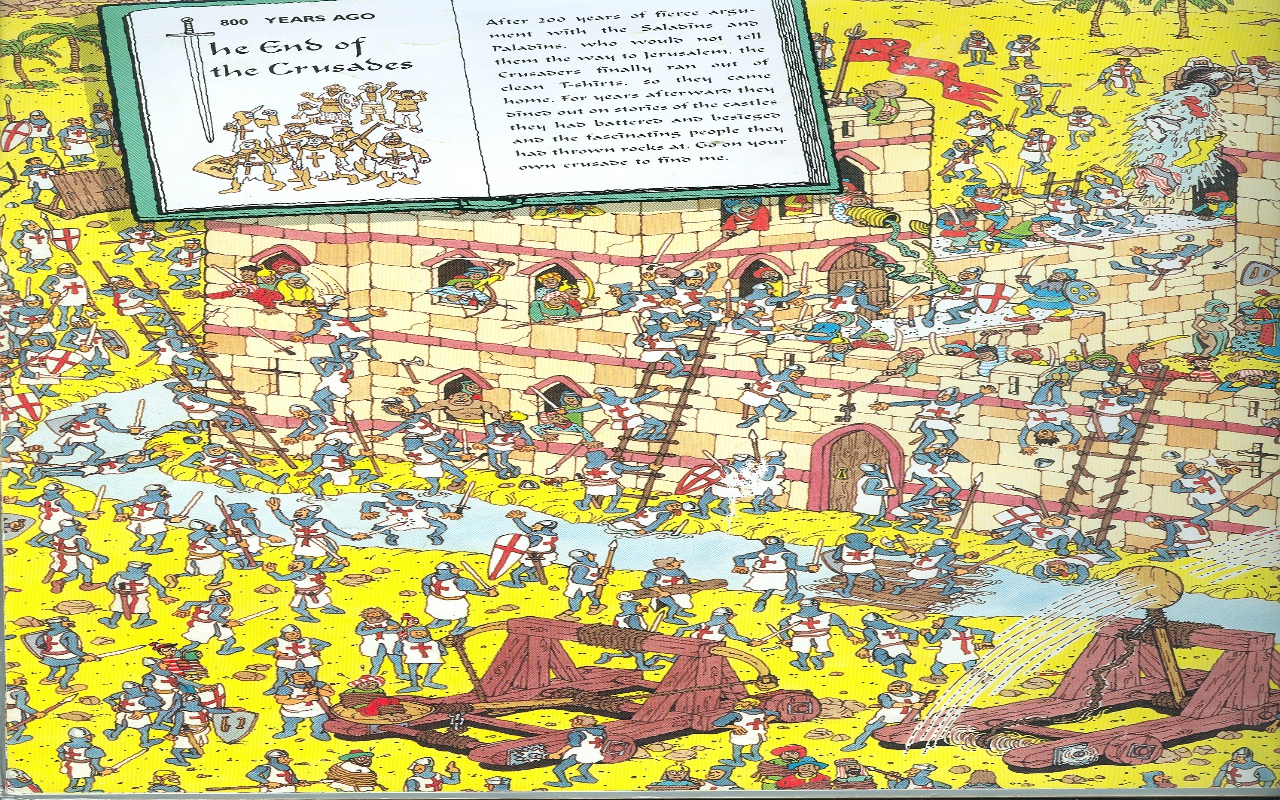waldo: (152, 639, 180, 666)
